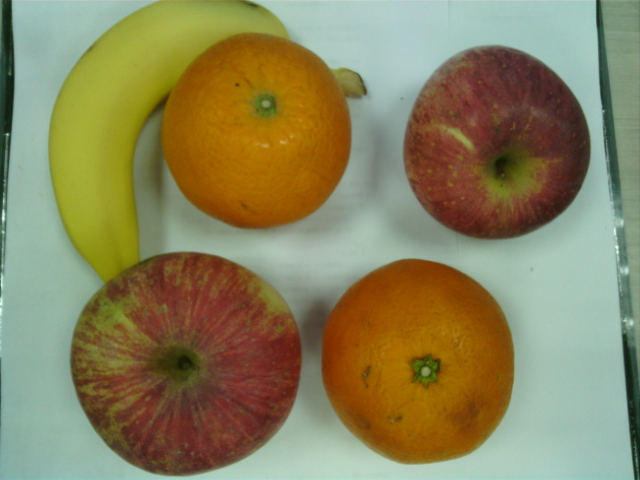normal_apple: (70, 252, 305, 475), (403, 46, 591, 240)
normal_banana: (48, 1, 285, 281)
normal_orange: (322, 258, 515, 462), (163, 33, 352, 229)
